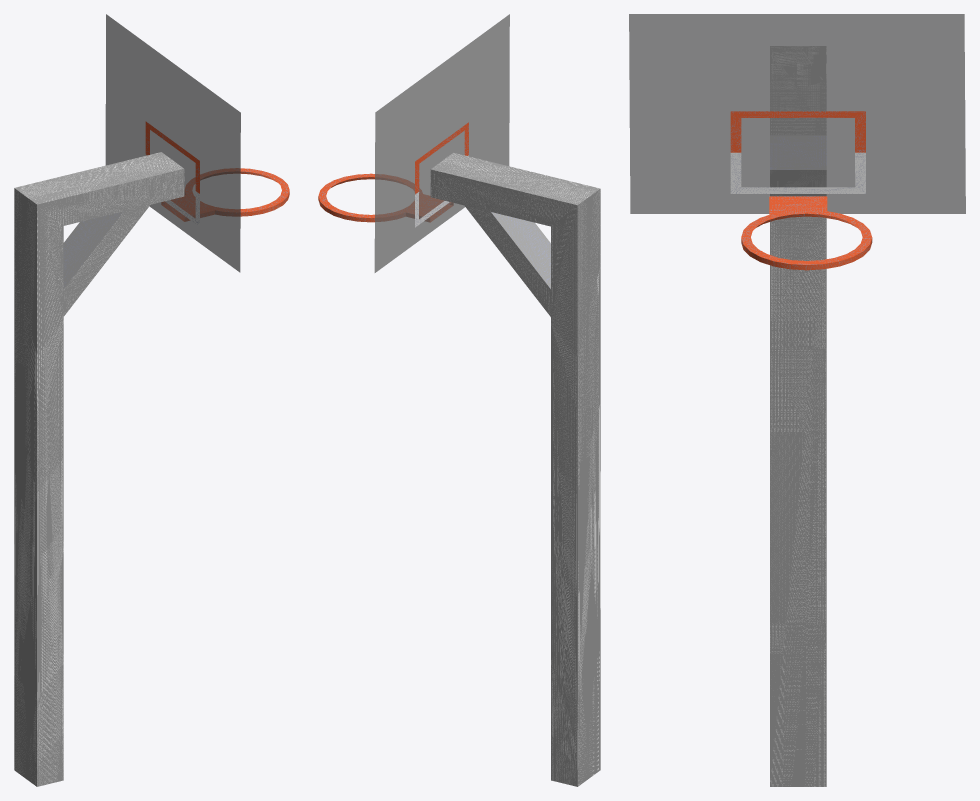
3 renders of one model, left to right at view 1: azimuth 30°, elevation 25°; view 2: azimuth 150°, elevation 25°; view 3: azimuth 270°, elevation 25°, orthographic. The views are drawn at different scales.
Parts seen in each view (by area): view 1: SketchUp (×6); view 2: SketchUp (×6); view 3: SketchUp (×6).
Part boxes in pixels (bbox=[...]): SketchUp (×6): bbox=[14, 14, 289, 786]; SketchUp (×6): bbox=[318, 14, 600, 786]; SketchUp (×6): bbox=[629, 14, 965, 786].
Bounding box in the file's own units: 26.71 × 24.03 × 66.61.
